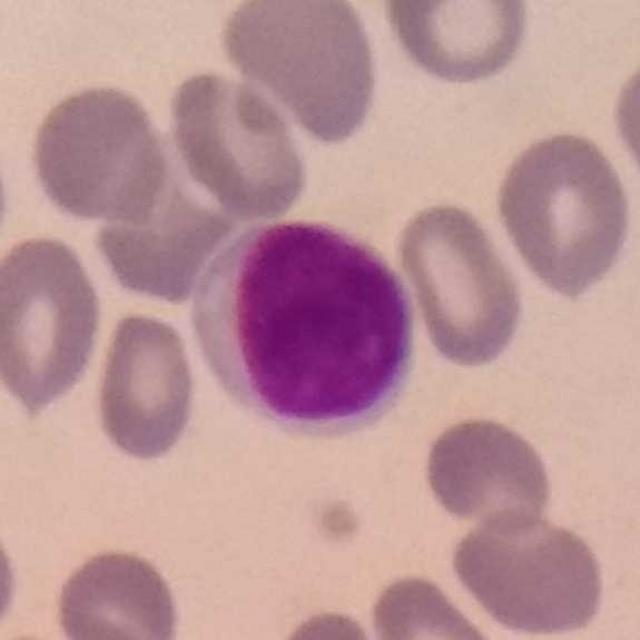Lymphocyte: (180, 214, 421, 443)
RBC: (488, 126, 636, 300), (213, 0, 385, 148), (390, 195, 530, 373), (164, 63, 312, 224), (24, 78, 176, 228), (446, 505, 610, 640), (0, 229, 108, 413), (88, 308, 203, 467), (418, 411, 558, 534), (376, 0, 537, 89), (49, 543, 186, 640), (364, 569, 510, 640), (607, 40, 640, 206), (263, 604, 395, 640), (0, 511, 23, 640), (0, 125, 13, 280), (1, 628, 106, 640)
